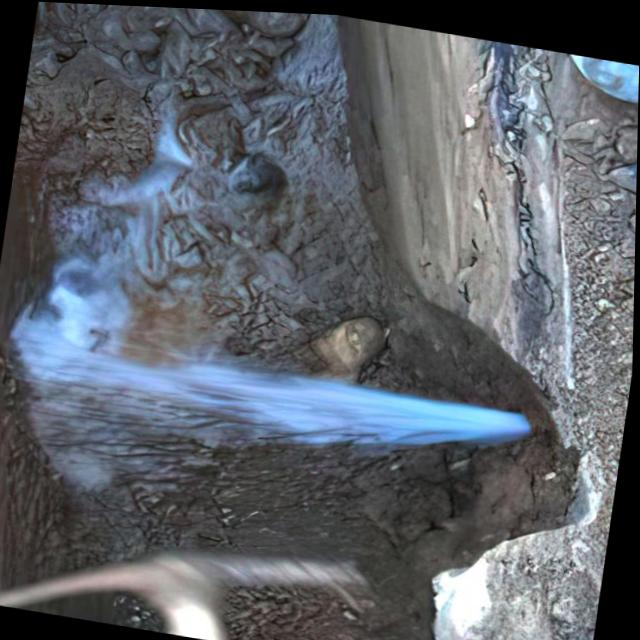leak: (6, 304, 523, 468)
